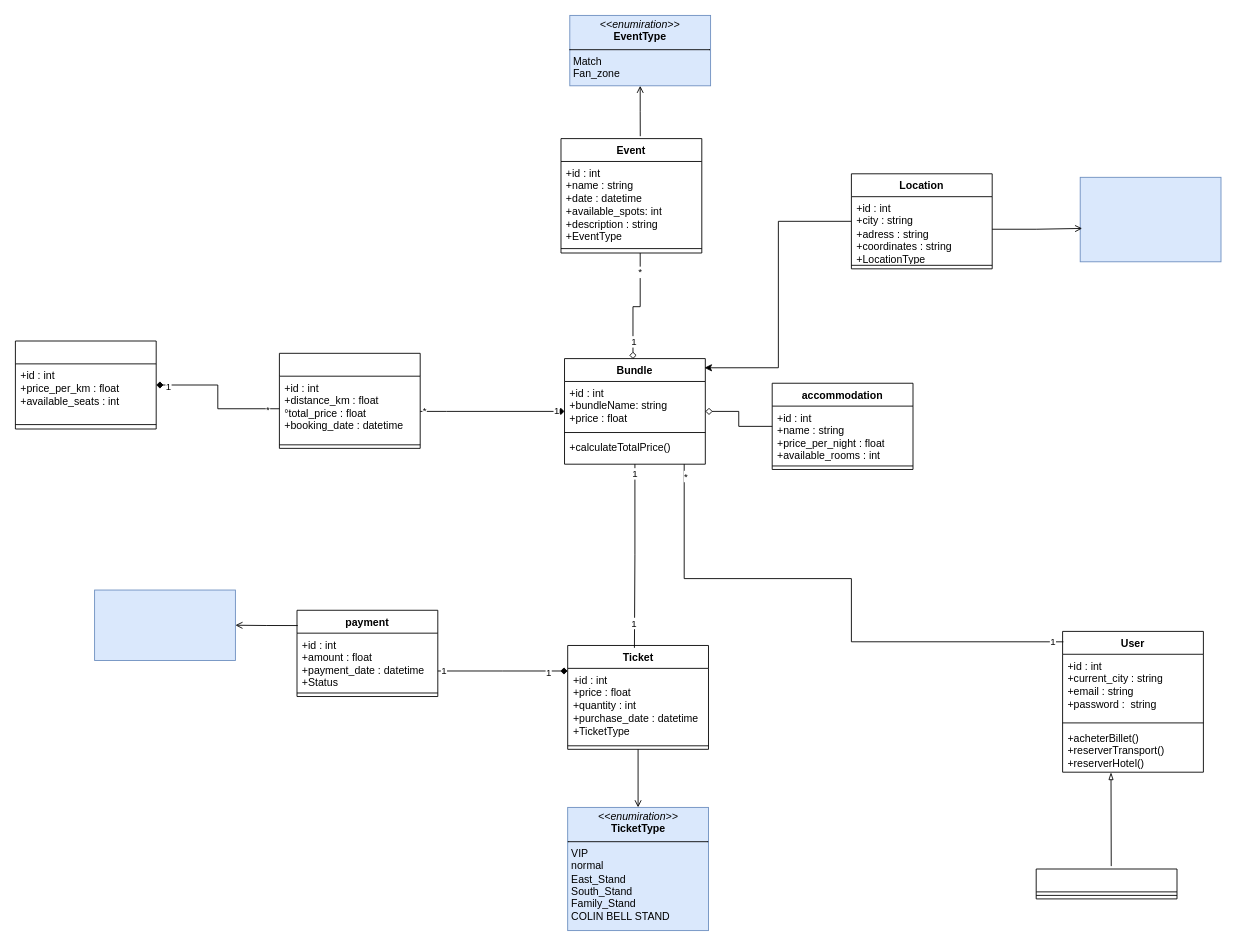
Some shapes in this 1236 by 946 pixel diagram are drawn without their labels. The box of each missing label's shape, as (x1, y1, x2, y2) in pixels:
<<enumiration>> LocationType Event Accommodation User: (1079, 176, 1221, 262)
<<enumiration>> Status failed success: (94, 589, 235, 660)
Admin: (1035, 868, 1177, 899)
TransportBooking: (279, 352, 420, 448)
TransportService: (15, 340, 156, 429)
